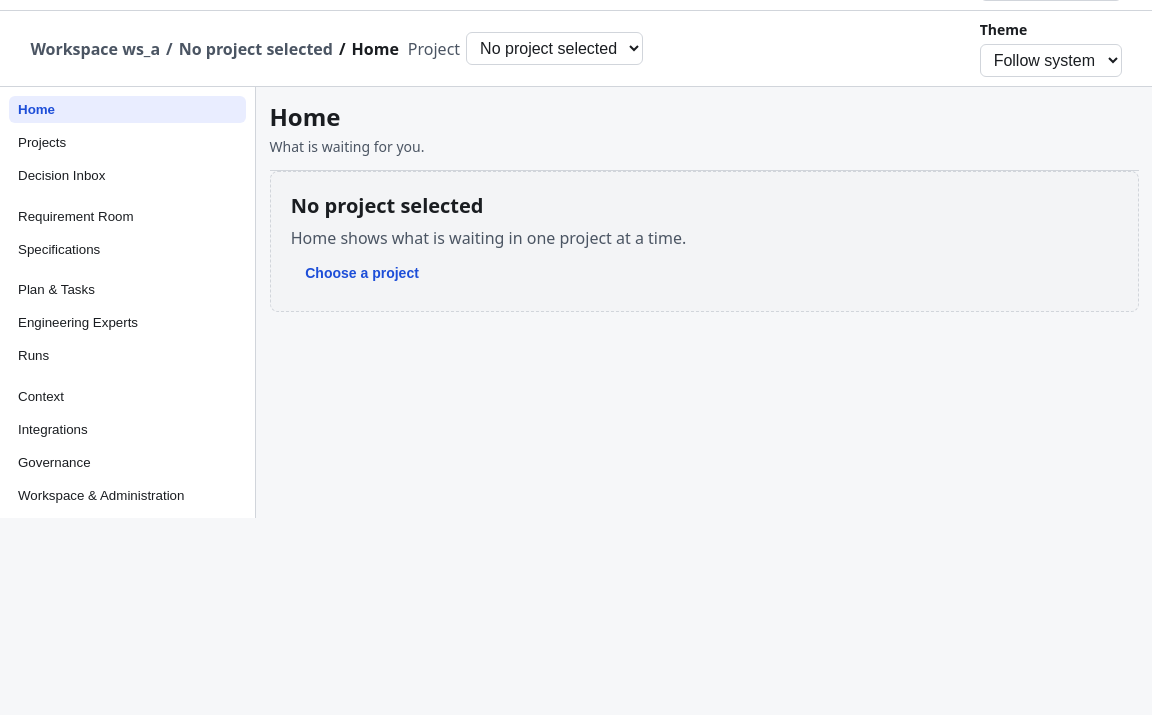
it: T437c · the frame composes navigation, context and the outlet › keeps the frame across a navigation, rather than rebuilding it
(page scrolled)
Expected: the element with class "shell__sidebar" is shown, [0, 87, 256, 518]
Click the button "Runs".
click(128, 356)  # box [9, 342, 246, 369]
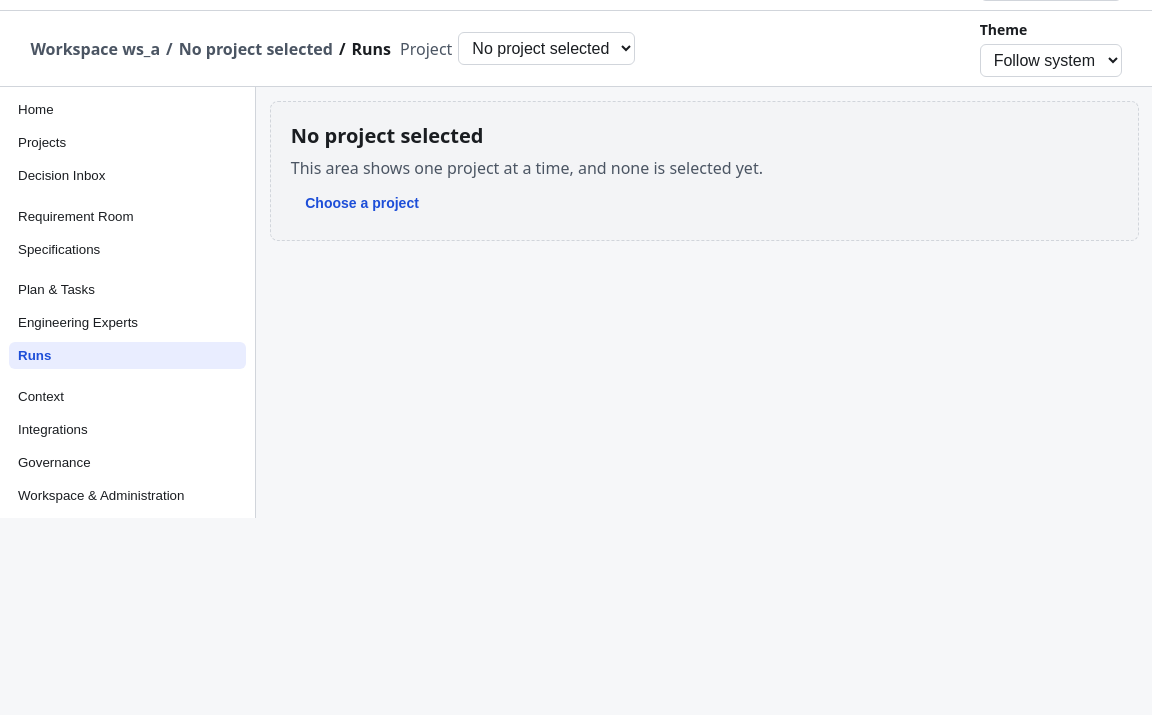
Expected: the navigation bar named "Breadcrumb" shows "Runs", [352, 38, 391, 60]
